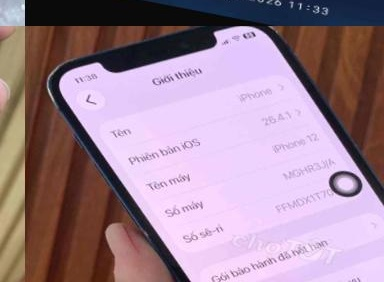scratch: (206, 26, 315, 55)
